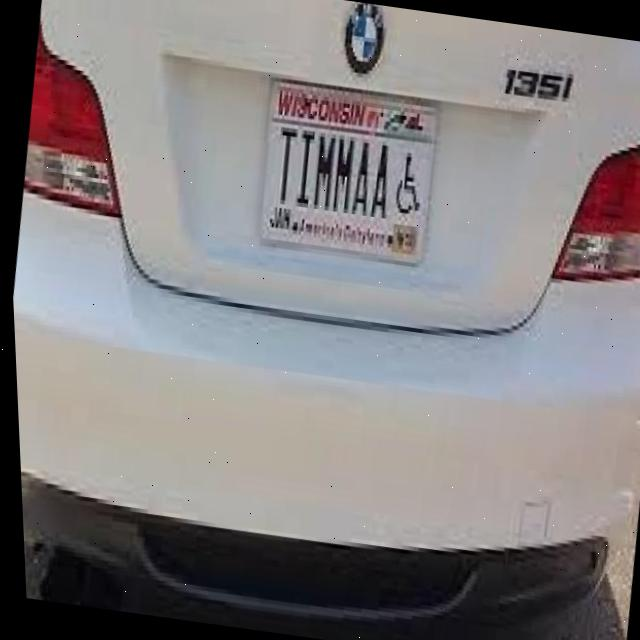symbol_of_access: (384, 144, 429, 228)
